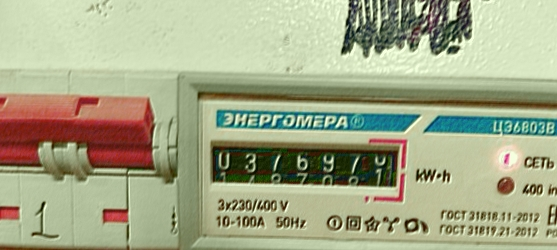0: (214, 147, 228, 169)
1: (371, 166, 382, 186)
3: (242, 151, 256, 172)
6: (293, 147, 308, 171)
7: (267, 148, 282, 172), (345, 151, 360, 174)
9: (319, 150, 333, 172)
screen: (200, 127, 409, 204)
